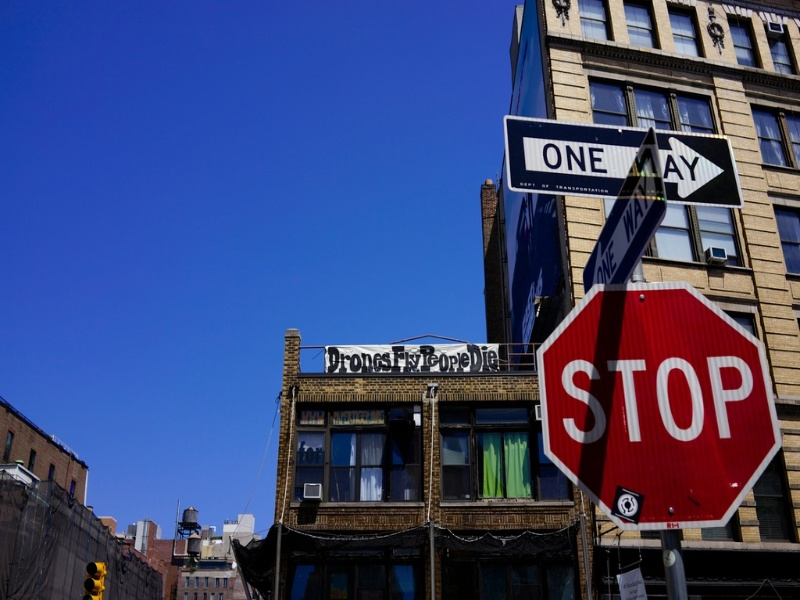stop: (533, 274, 782, 532)
